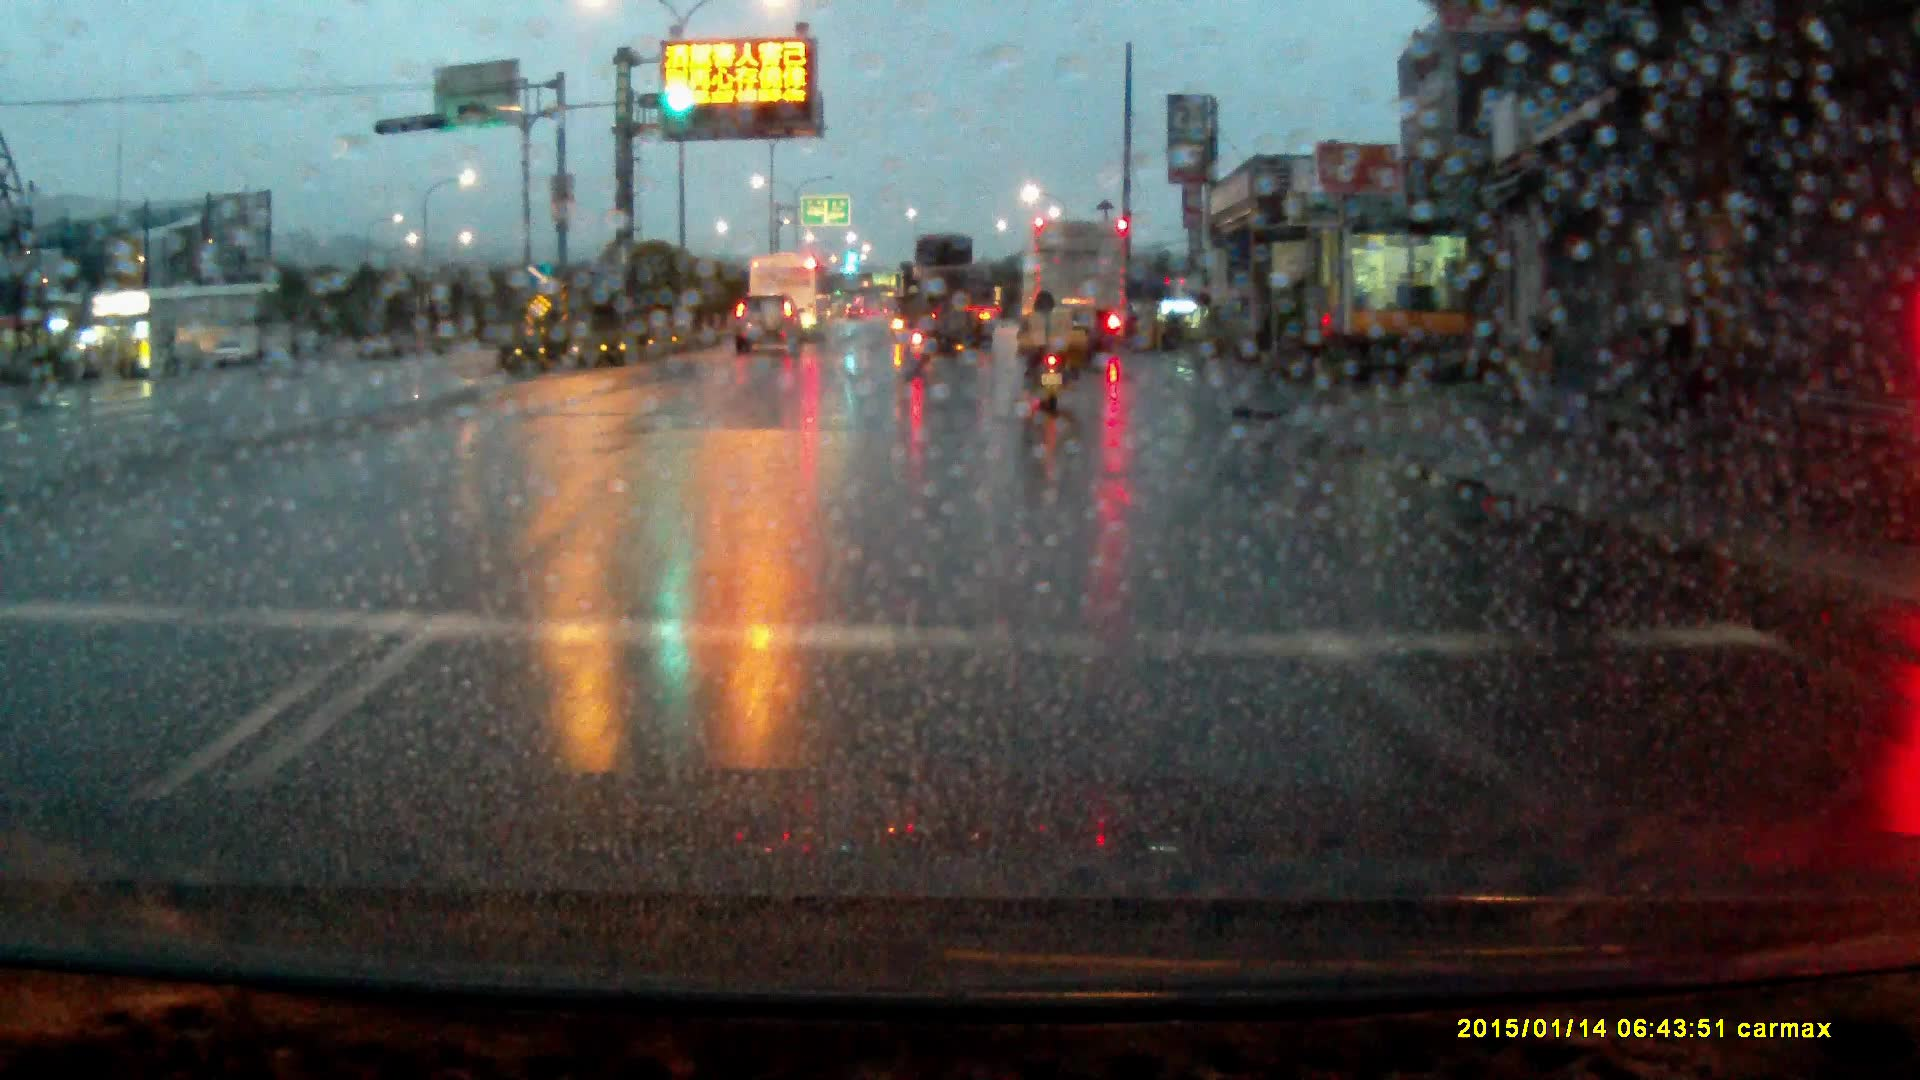rider: (1018, 284, 1085, 413), (901, 281, 938, 365)
vehicle: (1028, 217, 1126, 356), (899, 231, 997, 347), (756, 245, 830, 329), (732, 293, 807, 359)
